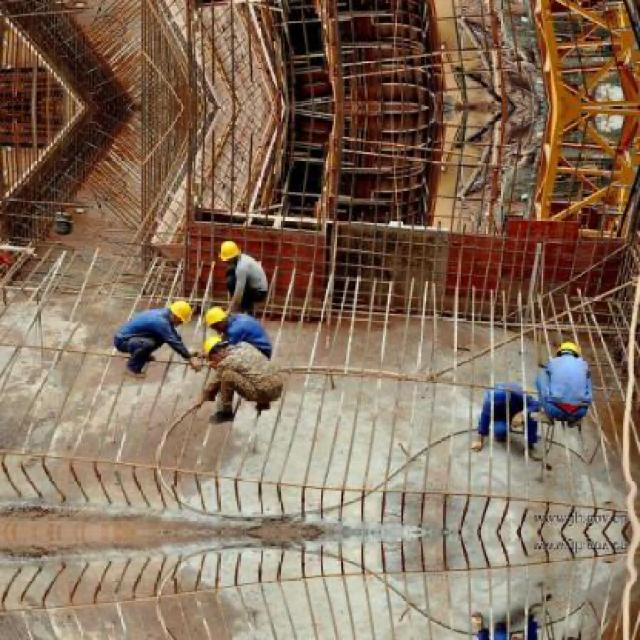helmet: (200, 303, 234, 329), (554, 334, 584, 361), (202, 332, 230, 360), (215, 234, 240, 263), (168, 296, 192, 324), (485, 378, 512, 402)
